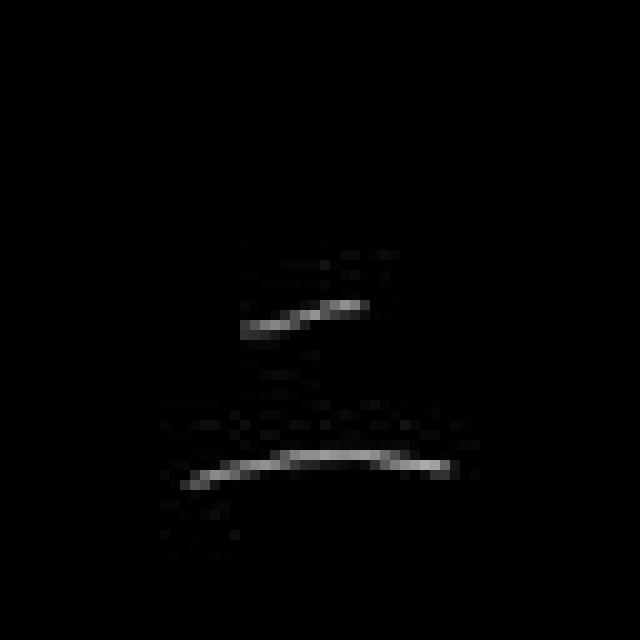2 -two-: (166, 288, 462, 503)
